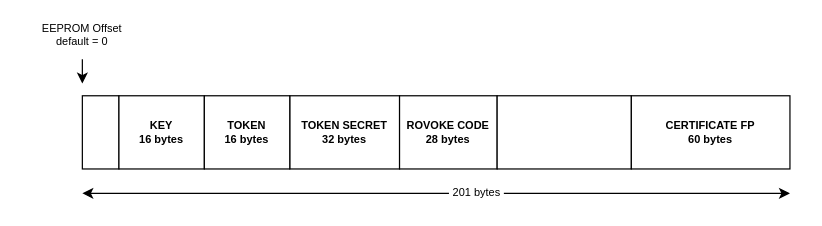
Some shapes in this 822 by 226 pixel diagram are drawn without their labels. The shapes that lost their labels are listed below. From the top down, each one's centre as x and y in pixels, then its label:
the point at 100,132: STATE 1 byte
the point at 563,132: SERVICE ENDPOINT 48 bytes
